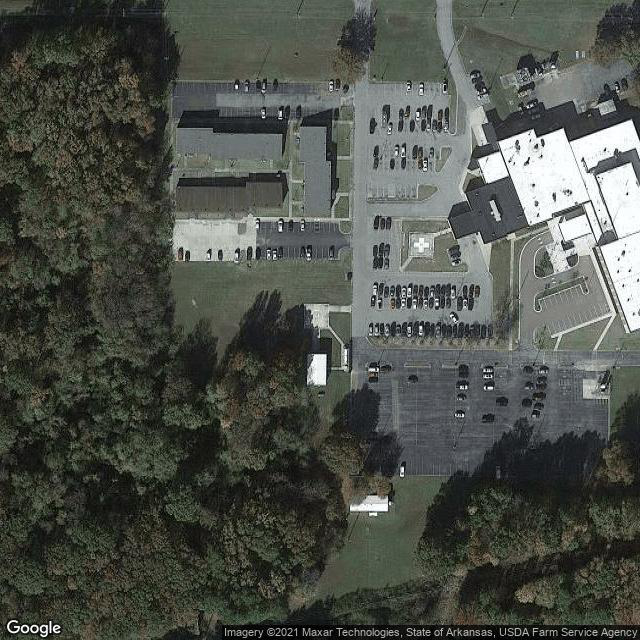Helipad: (300, 300, 332, 332), (406, 229, 437, 261)
